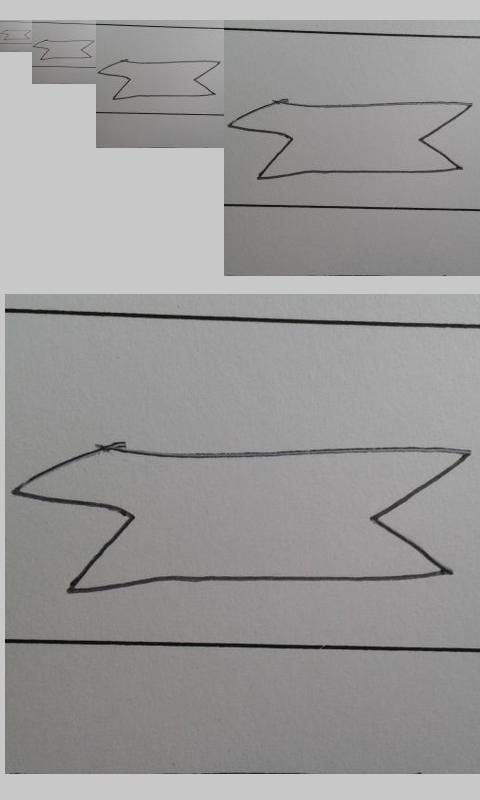edit_text: (11, 440, 473, 595), (228, 98, 474, 182), (97, 58, 222, 102), (33, 39, 94, 60), (1, 29, 31, 41)
